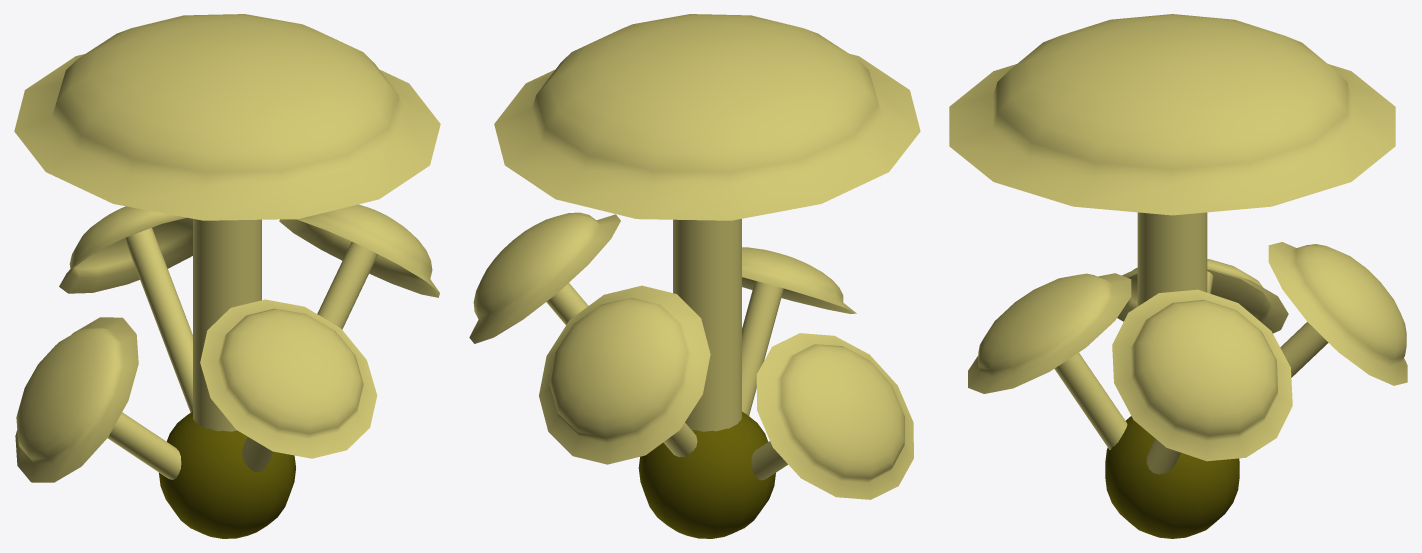
The model's file is mushroom4.fbx.
The picture shows the model from 3 angles, left to right: view 1: azimuth 30°, elevation 25°; view 2: azimuth 150°, elevation 25°; view 3: azimuth 270°, elevation 25°; orthographic projection.
Visible parts, largest first — view 1: MushroomTip (×5), MushroomStalk (×5), MushroomStalkBase; view 2: MushroomTip (×5), MushroomStalk (×5), MushroomStalkBase; view 3: MushroomTip (×5), MushroomStalk (×4), MushroomStalkBase.
Boxes of the visible parts, bbox=[...] form: MushroomTip (×5): bbox=[14, 14, 440, 482]; MushroomStalk (×5): bbox=[107, 219, 377, 479]; MushroomStalkBase: bbox=[159, 411, 295, 538]; MushroomTip (×5): bbox=[469, 14, 920, 499]; MushroomStalk (×5): bbox=[546, 219, 787, 480]; MushroomStalkBase: bbox=[638, 411, 775, 538]; MushroomTip (×5): bbox=[949, 14, 1407, 461]; MushroomStalk (×4): bbox=[1054, 212, 1328, 474]; MushroomStalkBase: bbox=[1105, 416, 1239, 538].
Size of the model in its own units: 5.29 by 6.04 by 5.17.
